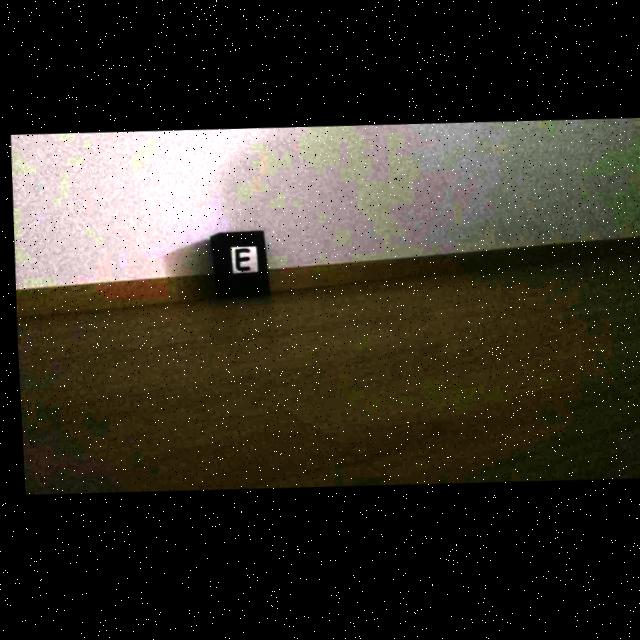E: (233, 250, 248, 272)
